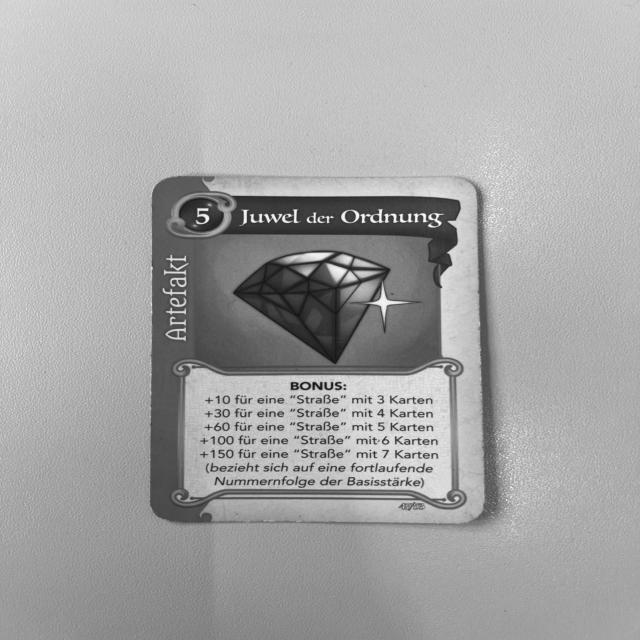Gem Of Order: (149, 174, 488, 525)
